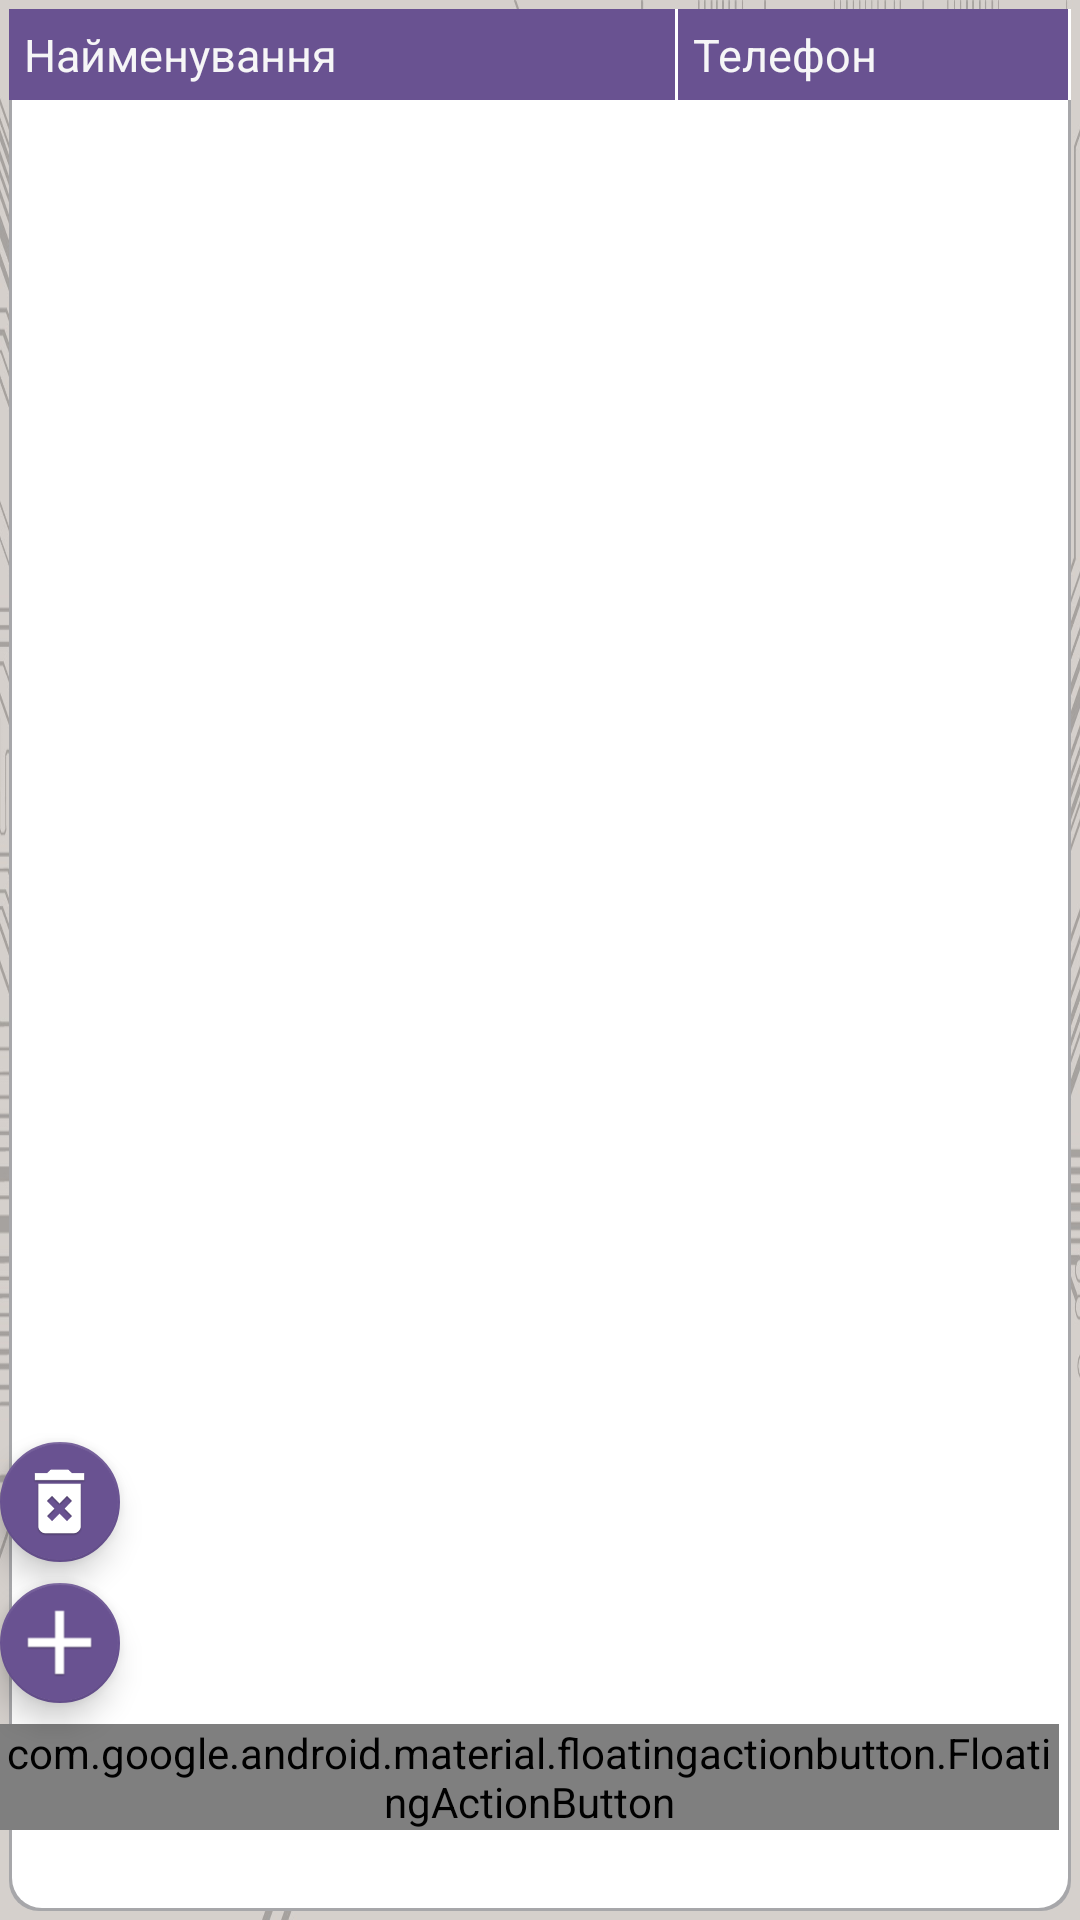

Icon bounding boxes for this 1080px x 1920px phone screenshot, format (x1, y1, x2, y2):
delete: (0, 1442, 120, 1562)
plus: (0, 1583, 120, 1703)
